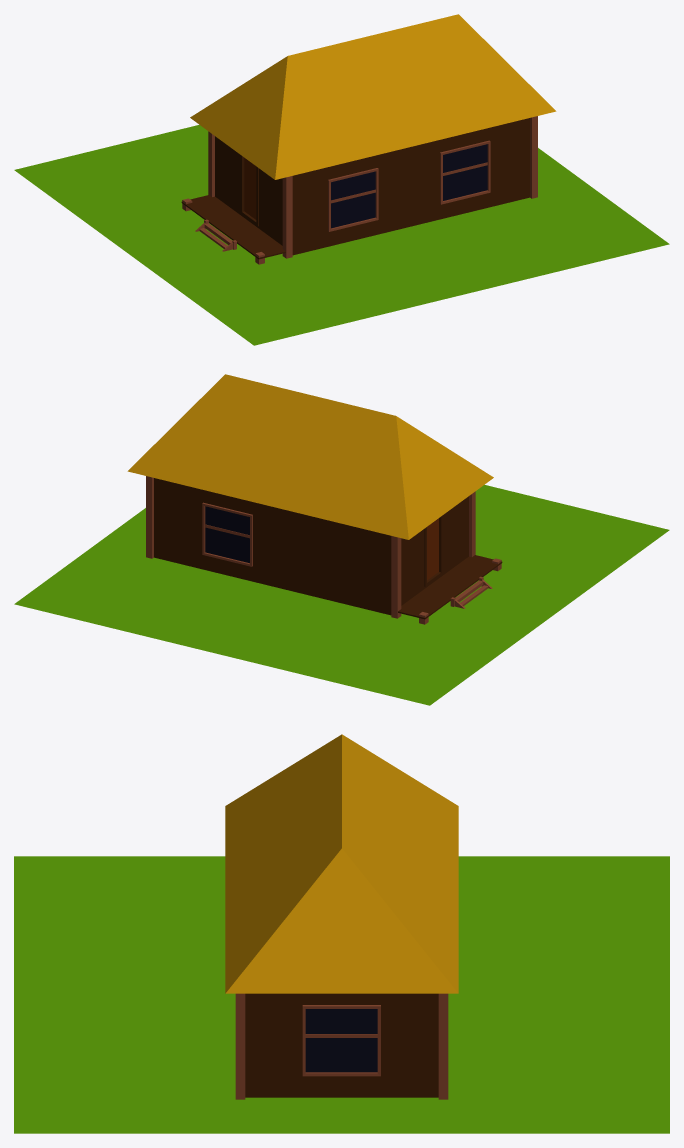
Rendered from dom1.fbx.
The picture shows the model from 3 angles, top to bottom: view 1: azimuth 30°, elevation 25°; view 2: azimuth 150°, elevation 25°; view 3: azimuth 270°, elevation 25°; orthographic projection. The views are drawn at different scales.
Visible parts, largest first — view 1: Dom, Plane; view 2: Dom, Plane; view 3: Plane, Dom.
Part boxes in pixels (box(x1,y1,x2,y2)): Dom: box(181, 14, 556, 264); Plane: box(14, 125, 669, 345); Dom: box(127, 374, 502, 624); Plane: box(14, 485, 669, 705); Plane: box(14, 856, 669, 1133); Dom: box(225, 734, 458, 1099).
Size of the model in its own units: 339 by 137 by 339.
